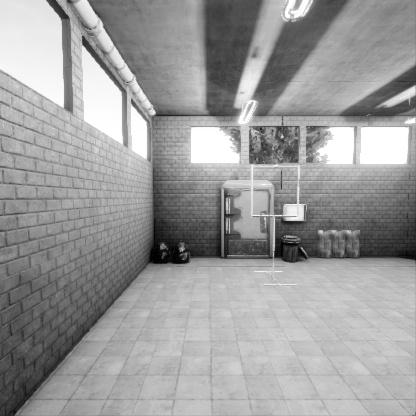gate: (251, 201, 303, 252)
